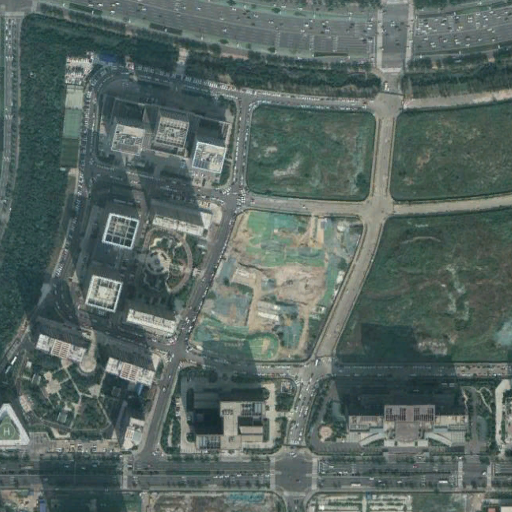cw: (190, 207, 364, 365)
